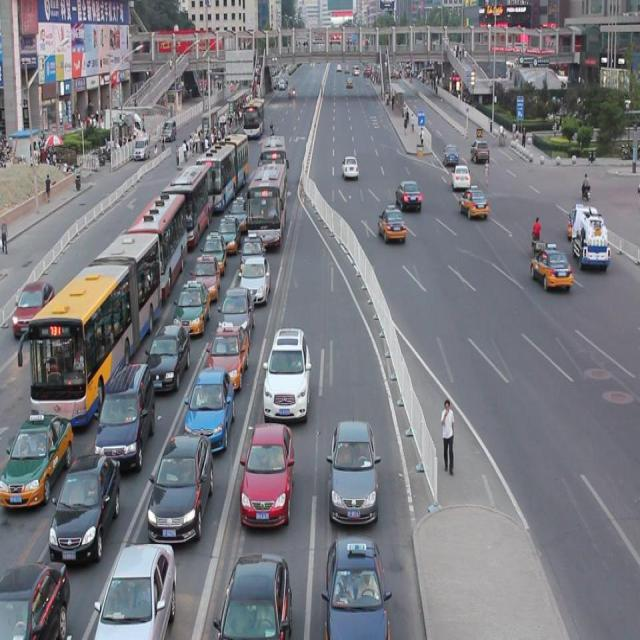bus: (572, 202, 609, 269)
car: (94, 538, 175, 640), (48, 452, 120, 554), (321, 535, 389, 640), (148, 428, 213, 536), (214, 551, 290, 640), (0, 411, 70, 503), (94, 358, 154, 461), (0, 554, 68, 640), (327, 417, 380, 517), (240, 422, 294, 517), (262, 325, 310, 415), (185, 364, 233, 442), (146, 317, 189, 386), (205, 320, 248, 384), (14, 279, 55, 334), (530, 241, 572, 289), (218, 284, 254, 339), (174, 278, 210, 330), (241, 252, 270, 298), (190, 250, 220, 294), (376, 204, 404, 242), (68, 276, 97, 312), (200, 229, 226, 269), (458, 183, 487, 218), (240, 228, 263, 270), (216, 210, 239, 246), (227, 191, 250, 226), (395, 178, 420, 210), (567, 203, 585, 238), (450, 163, 470, 190), (470, 141, 488, 164), (340, 156, 358, 179), (442, 142, 458, 165)
van: (16, 230, 160, 421), (123, 187, 186, 296), (197, 125, 247, 203), (247, 162, 286, 250), (168, 158, 208, 241), (261, 134, 288, 190)
